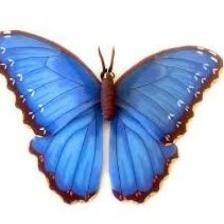butterfly: (0, 31, 223, 202)
